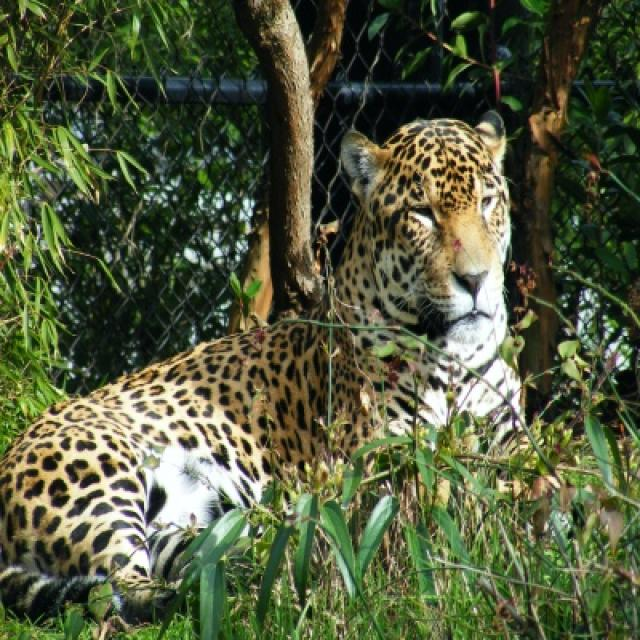Jaguar: (0, 117, 525, 613)
